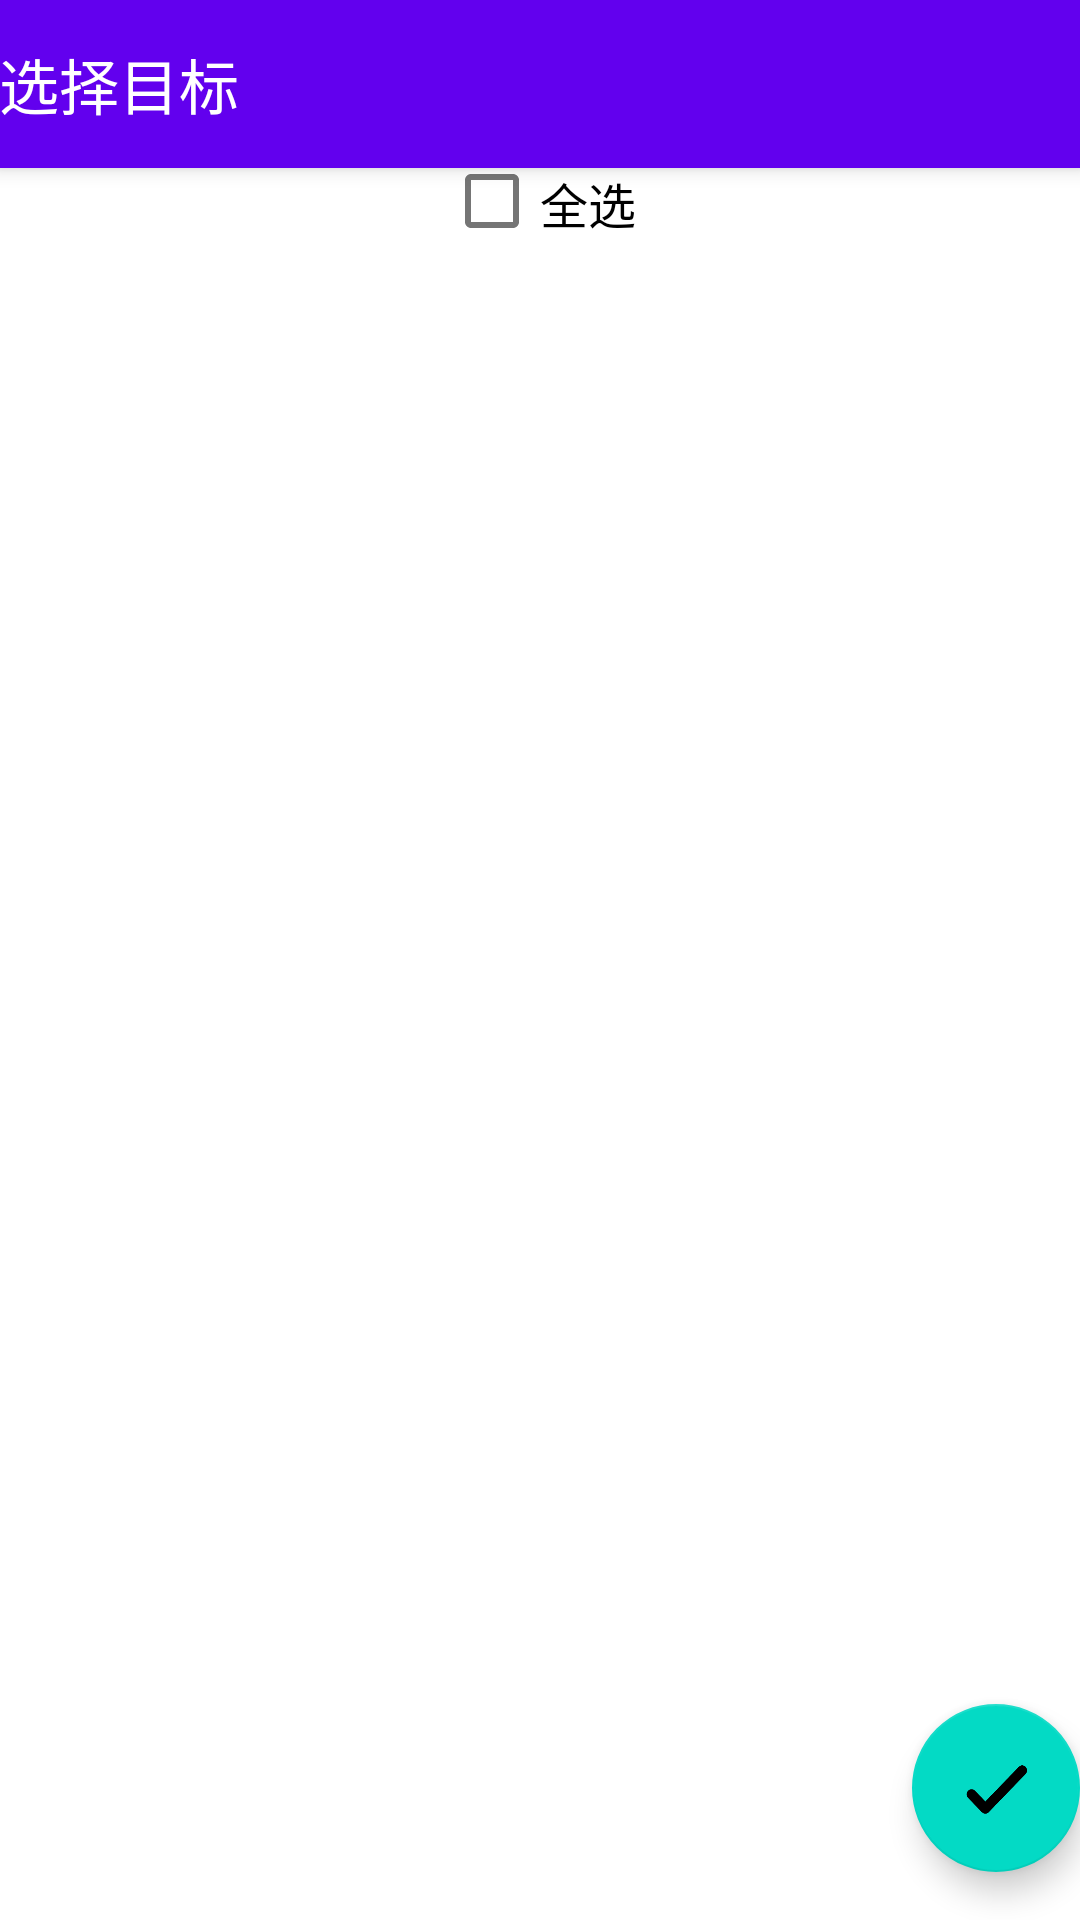

Icons on this 1080 x 1920 Android screen, each with its box as {"left": x1, "top": y1, "right": x2, "bottom": y2}:
check: {"left": 912, "top": 1704, "right": 1080, "bottom": 1872}
